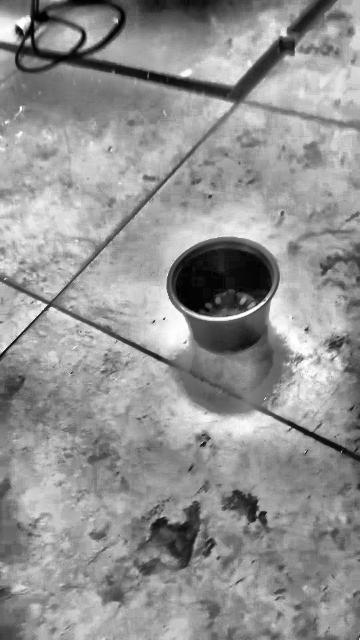pot: (167, 237, 280, 353)
